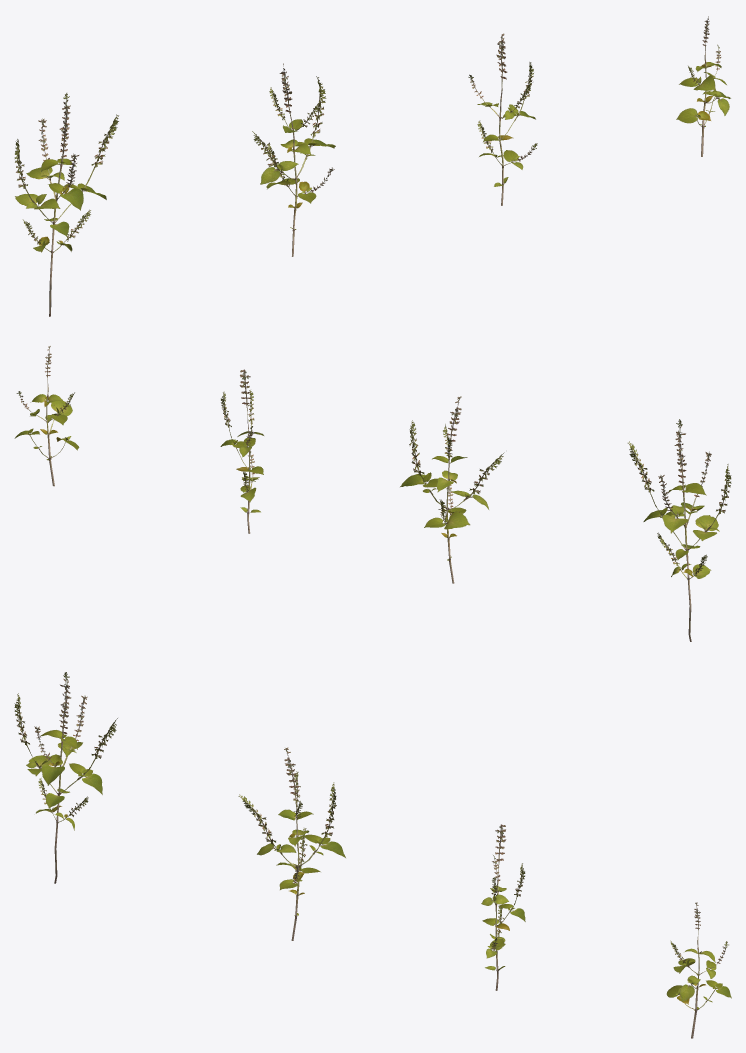
The model's file is shrub_03.glb.
The picture shows the model from 3 angles, top to bottom: view 1: azimuth 30°, elevation 25°; view 2: azimuth 150°, elevation 25°; view 3: azimuth 330°, elevation 25°; orthographic projection. The views are drawn at different scales.
Parts seen in each view (by area): view 1: shrub_03_a, shrub_03_b, shrub_03_c, shrub_03_d; view 2: shrub_03_a, shrub_03_b, shrub_03_c, shrub_03_d; view 3: shrub_03_a, shrub_03_b, shrub_03_d, shrub_03_c.
Part boxes in pixels (bbox=[...]): shrub_03_a: bbox=[14, 93, 118, 316]; shrub_03_b: bbox=[252, 63, 335, 256]; shrub_03_c: bbox=[468, 33, 537, 205]; shrub_03_d: bbox=[676, 16, 730, 156]; shrub_03_a: bbox=[627, 419, 731, 641]; shrub_03_b: bbox=[400, 396, 504, 583]; shrub_03_c: bbox=[220, 369, 263, 533]; shrub_03_d: bbox=[14, 346, 79, 486]; shrub_03_a: bbox=[14, 672, 117, 883]; shrub_03_b: bbox=[238, 747, 345, 940]; shrub_03_d: bbox=[666, 902, 731, 1038]; shrub_03_c: bbox=[481, 824, 525, 990].
Bounding box in the file's own units: 1.37 × 0.4028 × 0.1512.
Materials: 1 (1 with a texture image).
